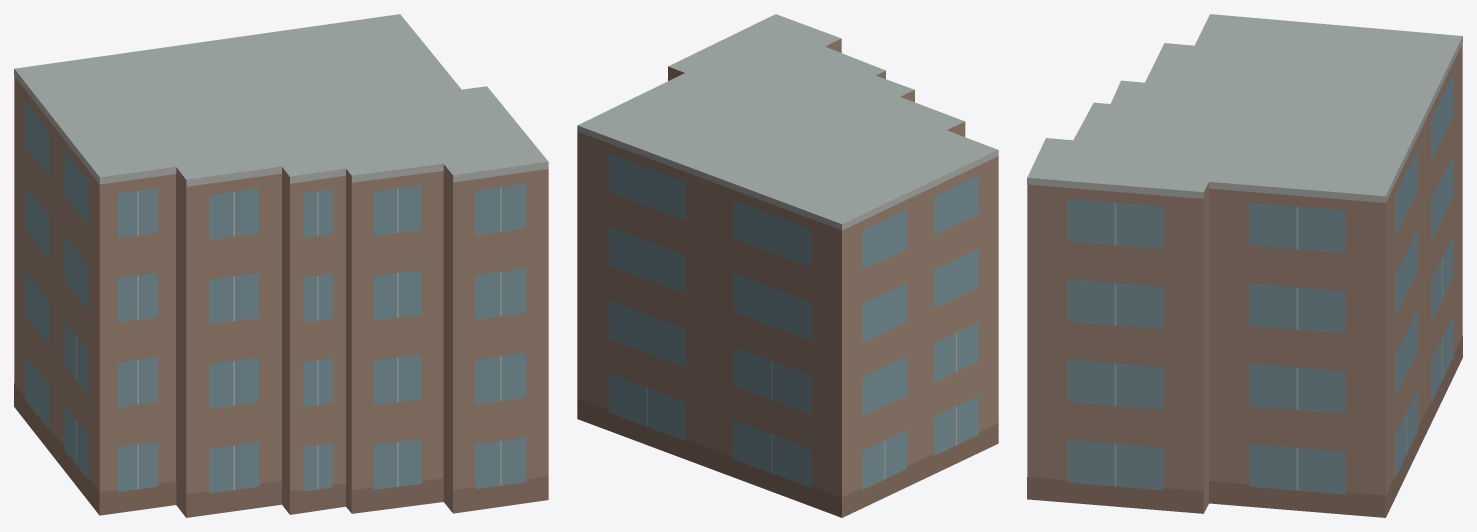
The model's file is survey-upis-33025216.glb.
The picture shows the model from 3 angles, left to right: view 1: azimuth 30°, elevation 25°; view 2: azimuth 150°, elevation 25°; view 3: azimuth 270°, elevation 25°; orthographic projection. The views are drawn at different scales.
Visible parts, largest first — view 1: survey-upis-33025216.tmp; view 2: survey-upis-33025216.tmp; view 3: survey-upis-33025216.tmp.
Part boxes in pixels (left/top/right/bottom): survey-upis-33025216.tmp: left=14, top=14, right=548, bottom=517; survey-upis-33025216.tmp: left=577, top=14, right=998, bottom=517; survey-upis-33025216.tmp: left=1027, top=14, right=1462, bottom=517.
Size of the model in its own units: 14.14 by 11.62 by 14.28.
